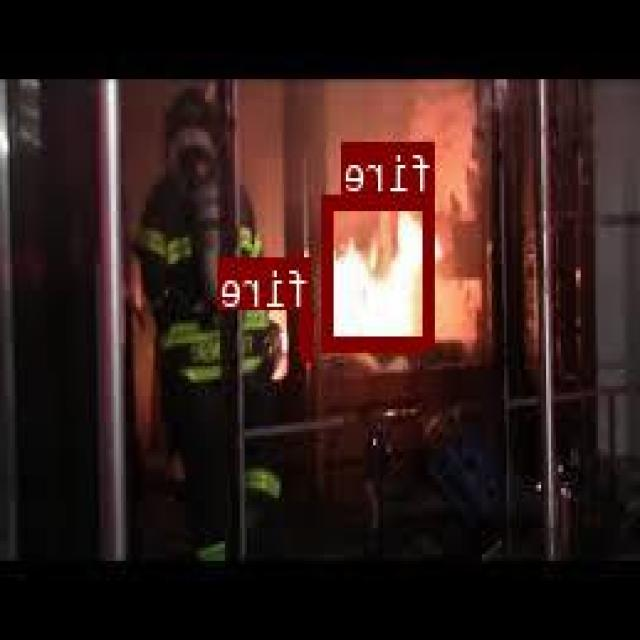fire: (324, 194, 437, 347), (306, 308, 312, 358)
